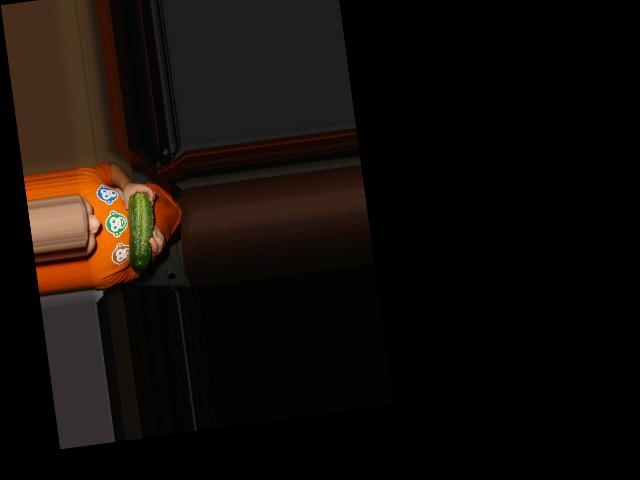cucumber: (121, 190, 161, 273)
